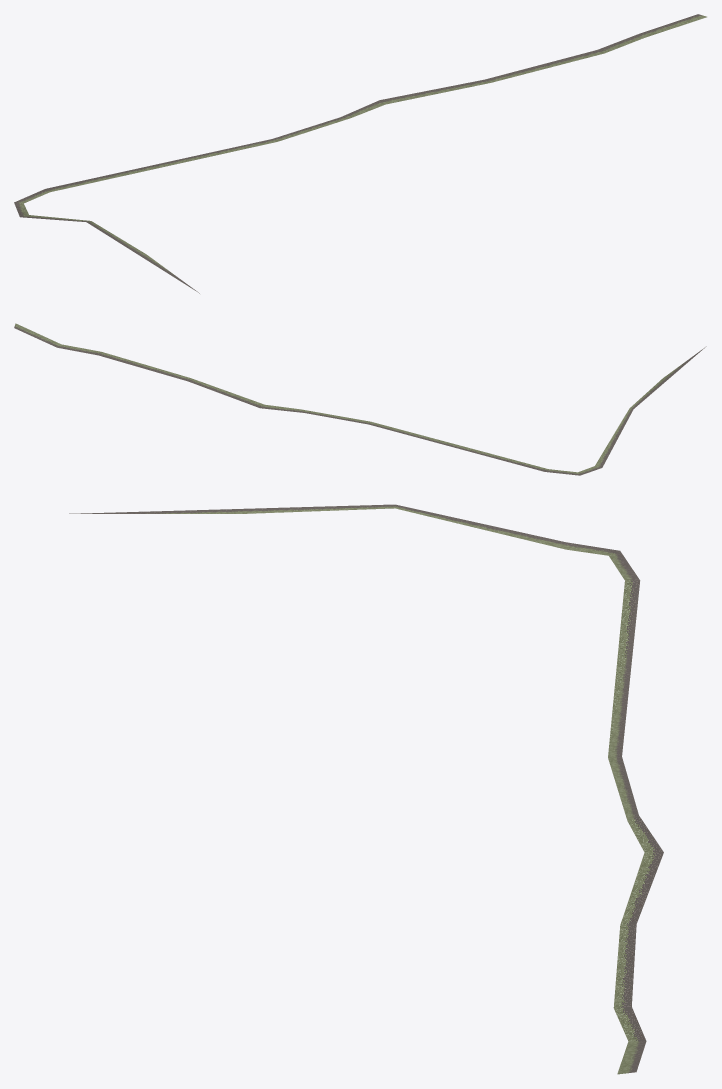
Rendered from kd_stage_135ded_4_131_exterior_piece_3.glb.
3 views of the same model, one above another, from view 1: azimuth 30°, elevation 25°; view 2: azimuth 150°, elevation 25°; view 3: azimuth 270°, elevation 25° (orthographic). The views are drawn at different scales.
Visible parts, largest first — view 1: kd_stage_135ded_4_131_exterior_piece_3; view 2: kd_stage_135ded_4_131_exterior_piece_3; view 3: kd_stage_135ded_4_131_exterior_piece_3.
Boxes of the visible parts, bbox=[...] form: kd_stage_135ded_4_131_exterior_piece_3: bbox=[14, 14, 706, 293]; kd_stage_135ded_4_131_exterior_piece_3: bbox=[14, 323, 706, 475]; kd_stage_135ded_4_131_exterior_piece_3: bbox=[69, 504, 663, 1074].
Size of the model in its own units: 5.07 by 0.2067 by 2.32.
Materials: 1 (1 with a texture image).
